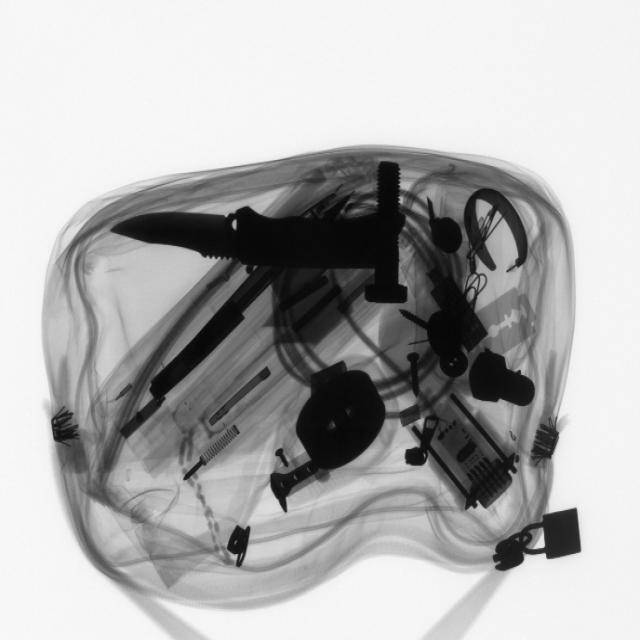BLADE: (471, 289, 538, 369)
KNIFE: (104, 197, 419, 282)
